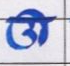i_matra: (33, 7, 47, 44)
